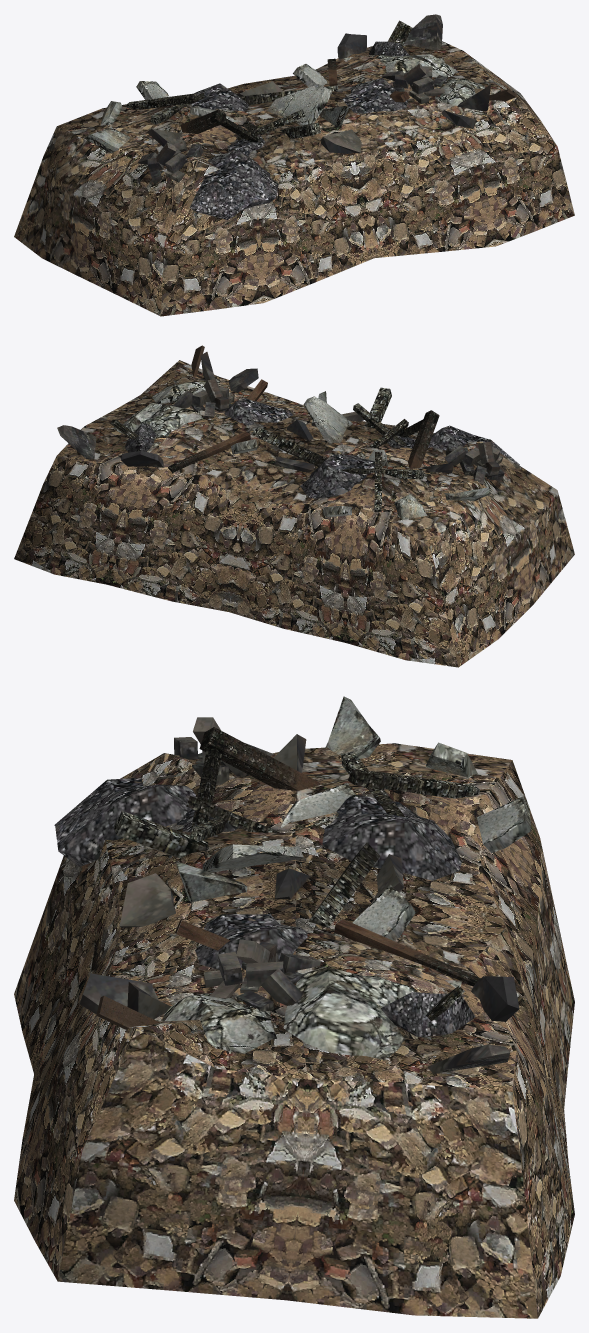
File: rubble_stone_4x2.glb
3 renders of one model, top to bottom at view 1: azimuth 30°, elevation 25°; view 2: azimuth 150°, elevation 25°; view 3: azimuth 270°, elevation 25°, orthographic. The views are drawn at different scales.
Parts seen in each view (by area): view 1: rubble_stone_4x2_part0; view 2: rubble_stone_4x2_part0; view 3: rubble_stone_4x2_part0.
Part boxes in pixels (x1,y1,x2,y2): rubble_stone_4x2_part0: (14, 14, 574, 316); rubble_stone_4x2_part0: (14, 345, 574, 667); rubble_stone_4x2_part0: (14, 696, 574, 1318).
Size of the model in its own units: 5.33 by 1.83 by 3.11.
1 material, 1 textured.
